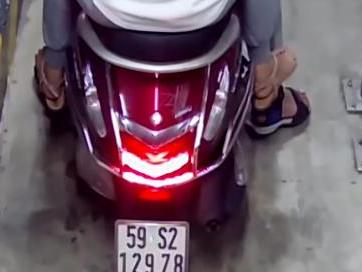num_plate: (112, 218, 193, 272)
